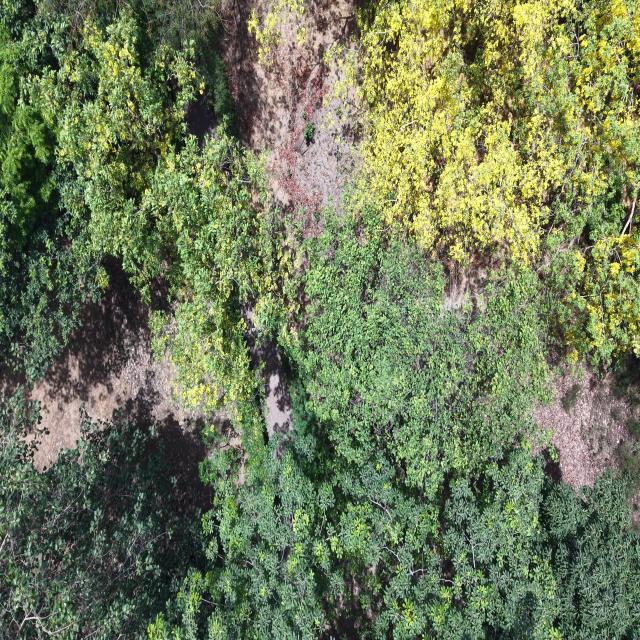DRY_AREA: (25, 257, 208, 487), (25, 257, 206, 484), (28, 267, 205, 484), (27, 258, 202, 469), (220, 0, 357, 234), (221, 0, 357, 234), (221, 0, 357, 233), (221, 0, 357, 232), (223, 0, 357, 220), (220, 0, 354, 219), (534, 345, 639, 521), (535, 358, 639, 492), (536, 368, 631, 490), (243, 305, 292, 449), (261, 339, 291, 438), (443, 262, 487, 309)
VEGETATION_TREE: (0, 0, 639, 639), (0, 401, 639, 639), (0, 1, 294, 457), (149, 421, 639, 639), (347, 1, 639, 361), (359, 0, 639, 261), (291, 215, 549, 494), (0, 395, 202, 639), (149, 129, 294, 458), (0, 1, 105, 379), (541, 477, 639, 639), (546, 197, 639, 363), (248, 0, 305, 63)
